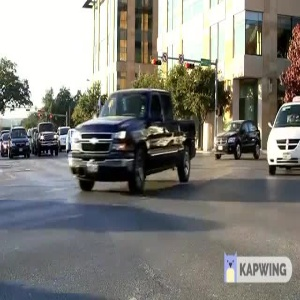car: (211, 114, 263, 164)
truck: (68, 86, 208, 196), (32, 121, 60, 162)
van: (263, 90, 300, 181), (6, 124, 34, 158)
